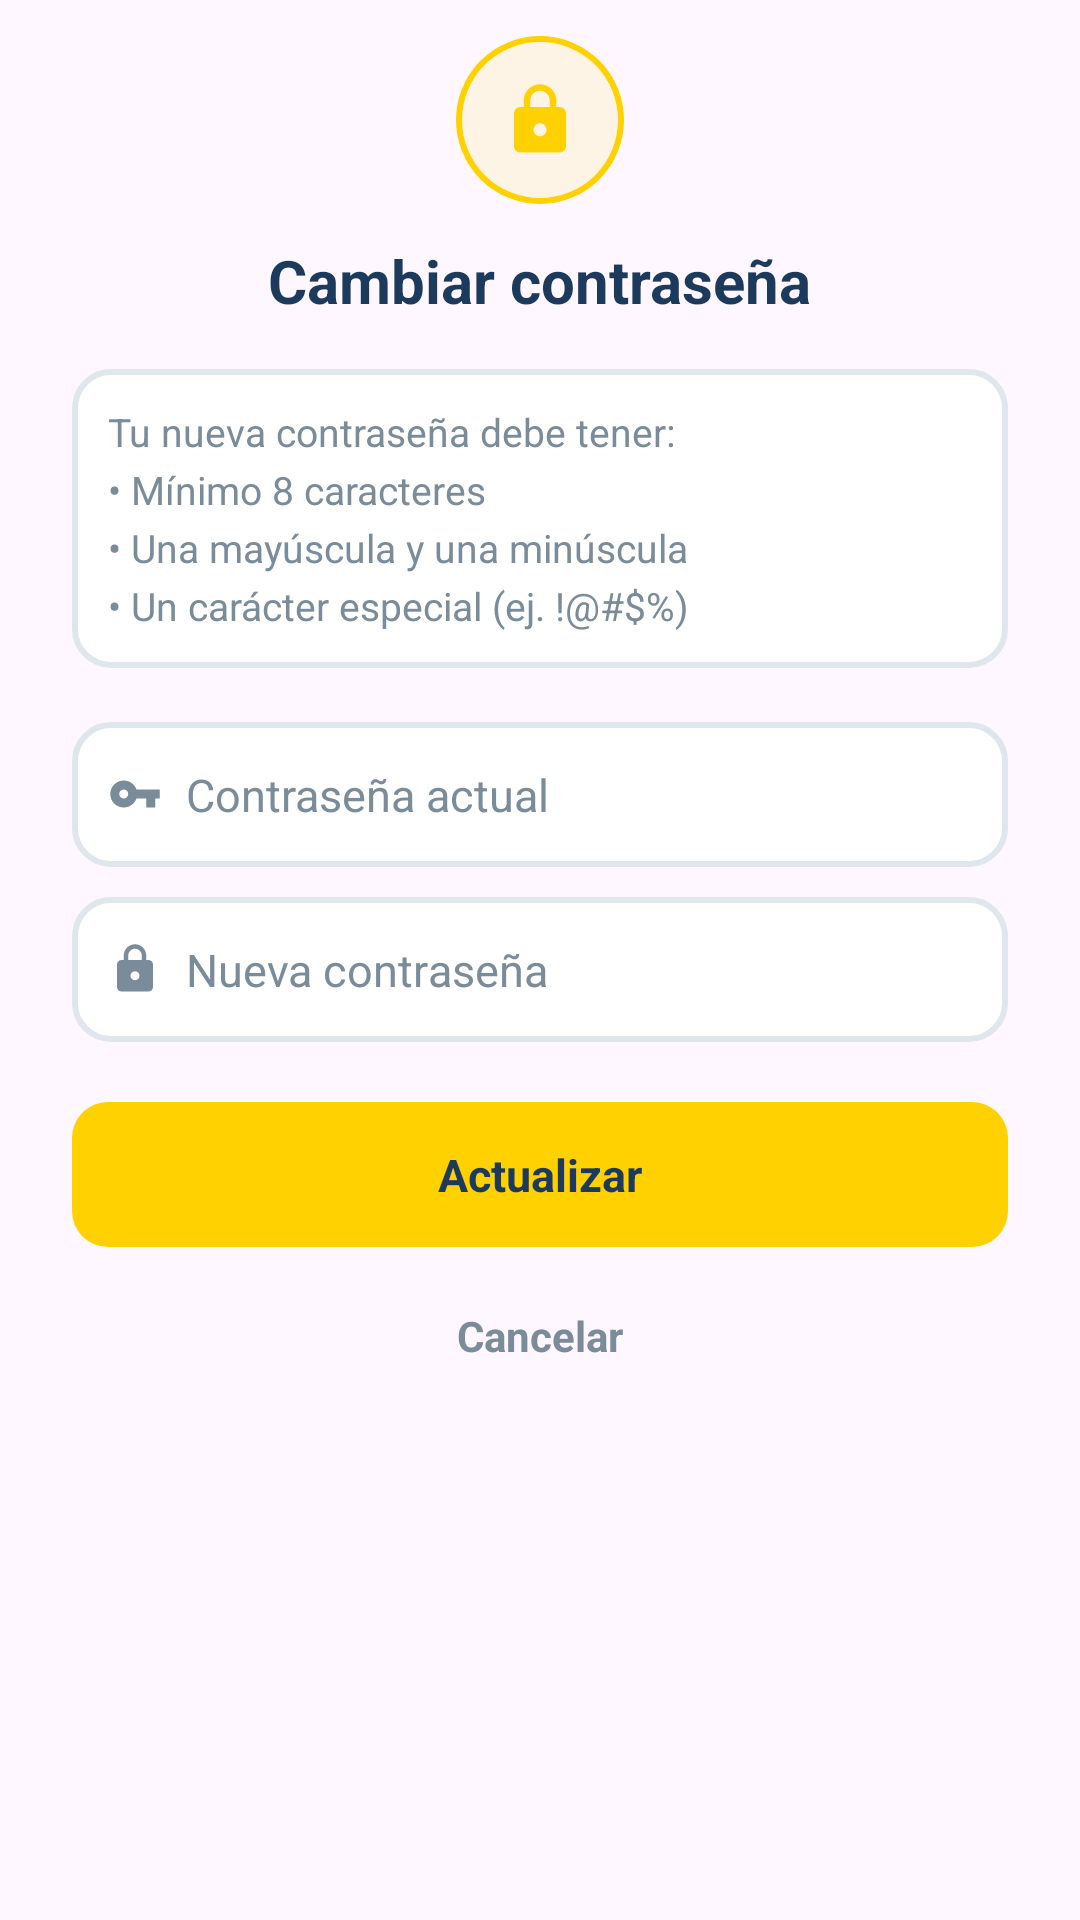

Named icons in this screenshot (1080 x 1920) and their centers, point (x, y):
key: point (135, 794)
lock: point (540, 118), point (135, 968)
